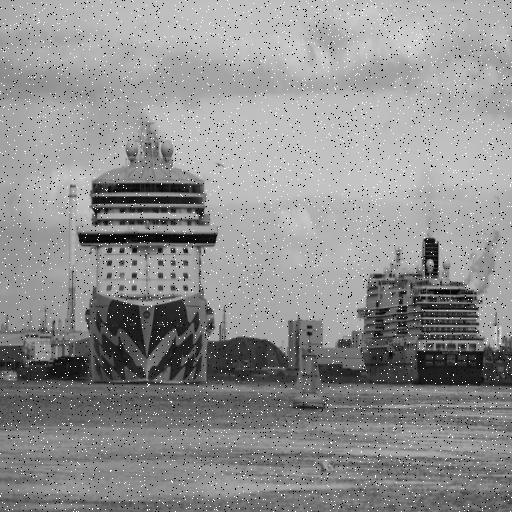cruises: (76, 116, 220, 393), (357, 235, 488, 395)
